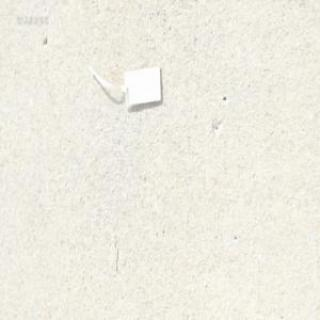LuggageTagtrack_idkeyframe: (86, 61, 162, 110)
